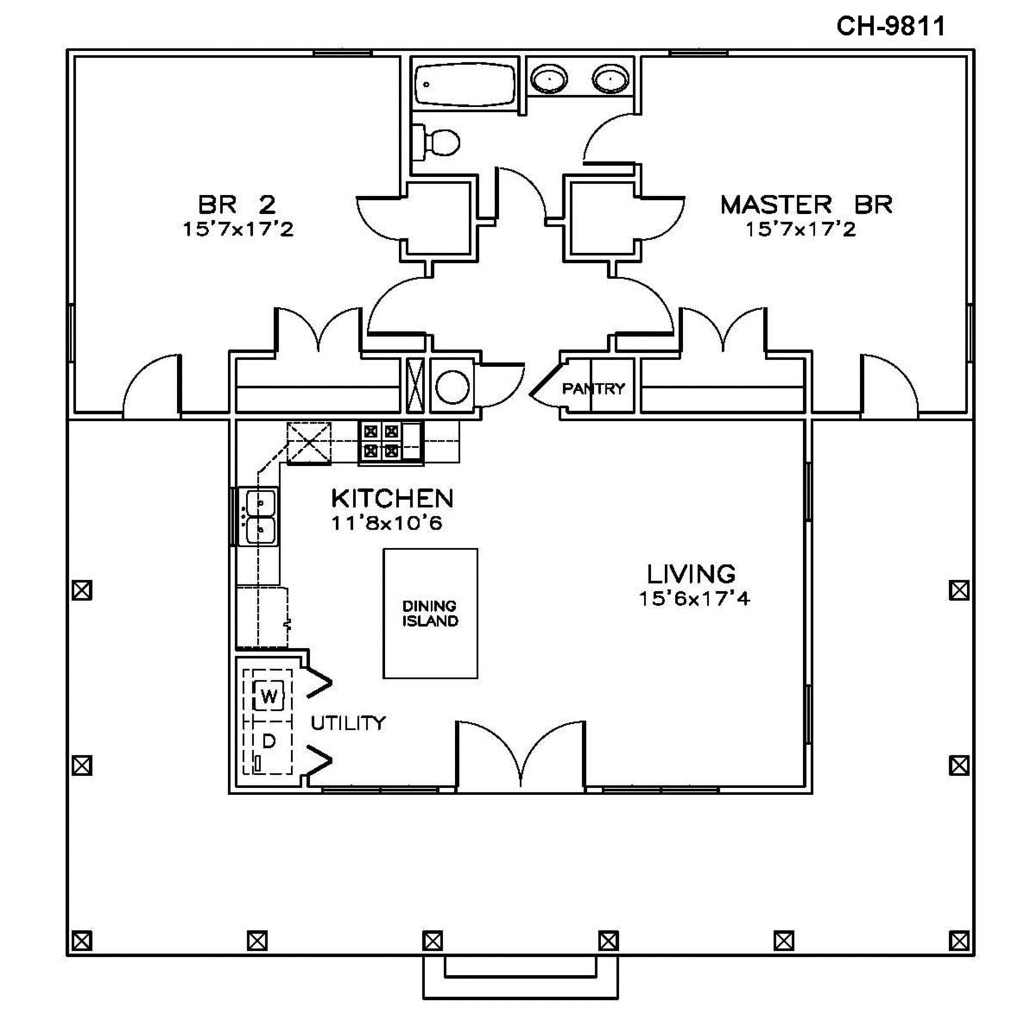door: (448, 712, 591, 796), (363, 267, 437, 339), (856, 345, 928, 416), (272, 305, 361, 362), (115, 345, 183, 416), (675, 305, 771, 351), (491, 158, 556, 224), (612, 278, 677, 337), (583, 110, 650, 167), (467, 356, 528, 413), (355, 188, 413, 242), (637, 188, 691, 243)
kitchen_bar: (240, 418, 459, 480)
large_sink: (404, 118, 474, 169)
small_sink: (578, 53, 648, 110), (529, 55, 574, 105)
tub: (404, 55, 526, 116)
twin_sink: (232, 483, 293, 562)
window: (604, 783, 721, 802), (666, 40, 734, 61), (315, 783, 439, 794), (318, 42, 385, 61)
